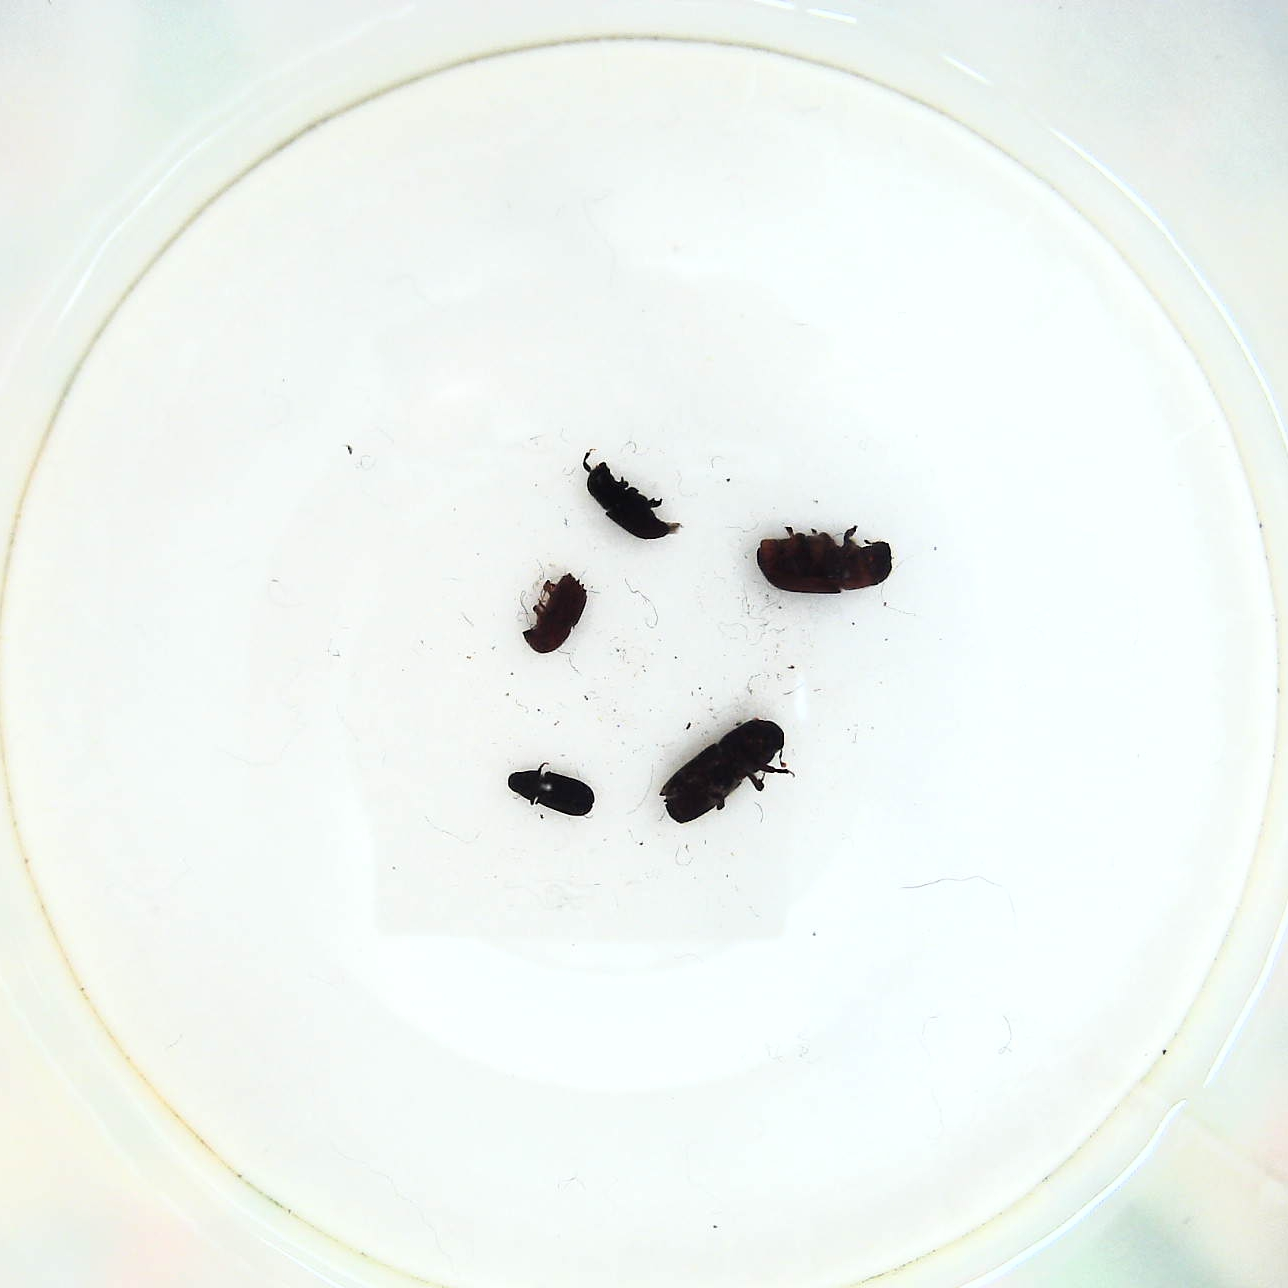Boerner: (661, 714, 796, 824)
Leconte: (753, 523, 899, 597)
armandi: (584, 464, 679, 544)
coleoptera: (504, 761, 602, 819)
linnaeus: (523, 569, 591, 658)
